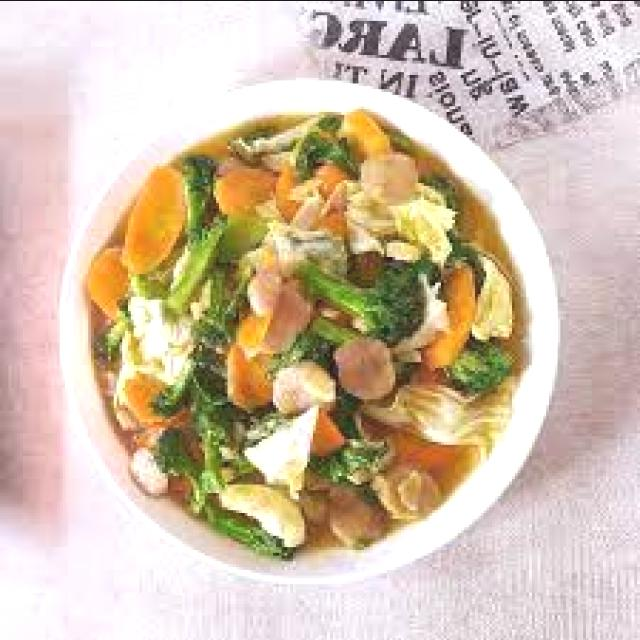capcay: (65, 102, 560, 580)
